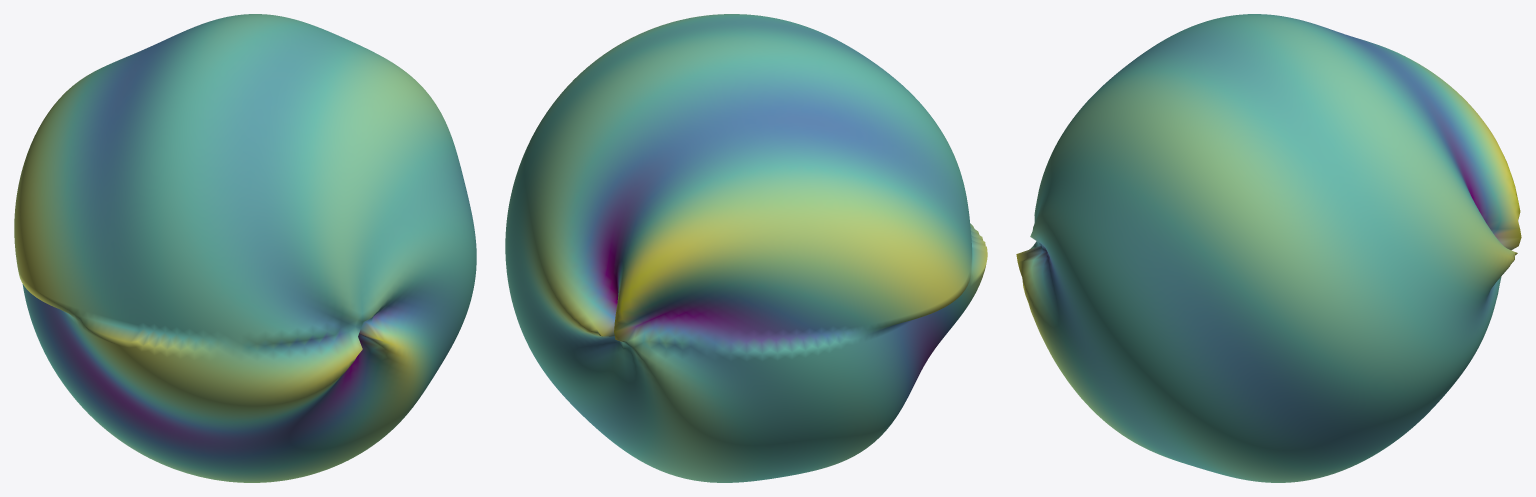
File: sphere_frame_0006.glb
The picture shows the model from 3 angles, left to right: view 1: azimuth 30°, elevation 25°; view 2: azimuth 150°, elevation 25°; view 3: azimuth 270°, elevation 25°; orthographic projection.
Visible parts, largest first — view 1: world; view 2: world; view 3: world.
Part boxes in pixels (<box>): world: <box>14,14,476,482</box>; world: <box>505,14,987,482</box>; world: <box>1016,14,1521,482</box>.
Size of the model in its own units: 2.21 by 2.16 by 2.32.
